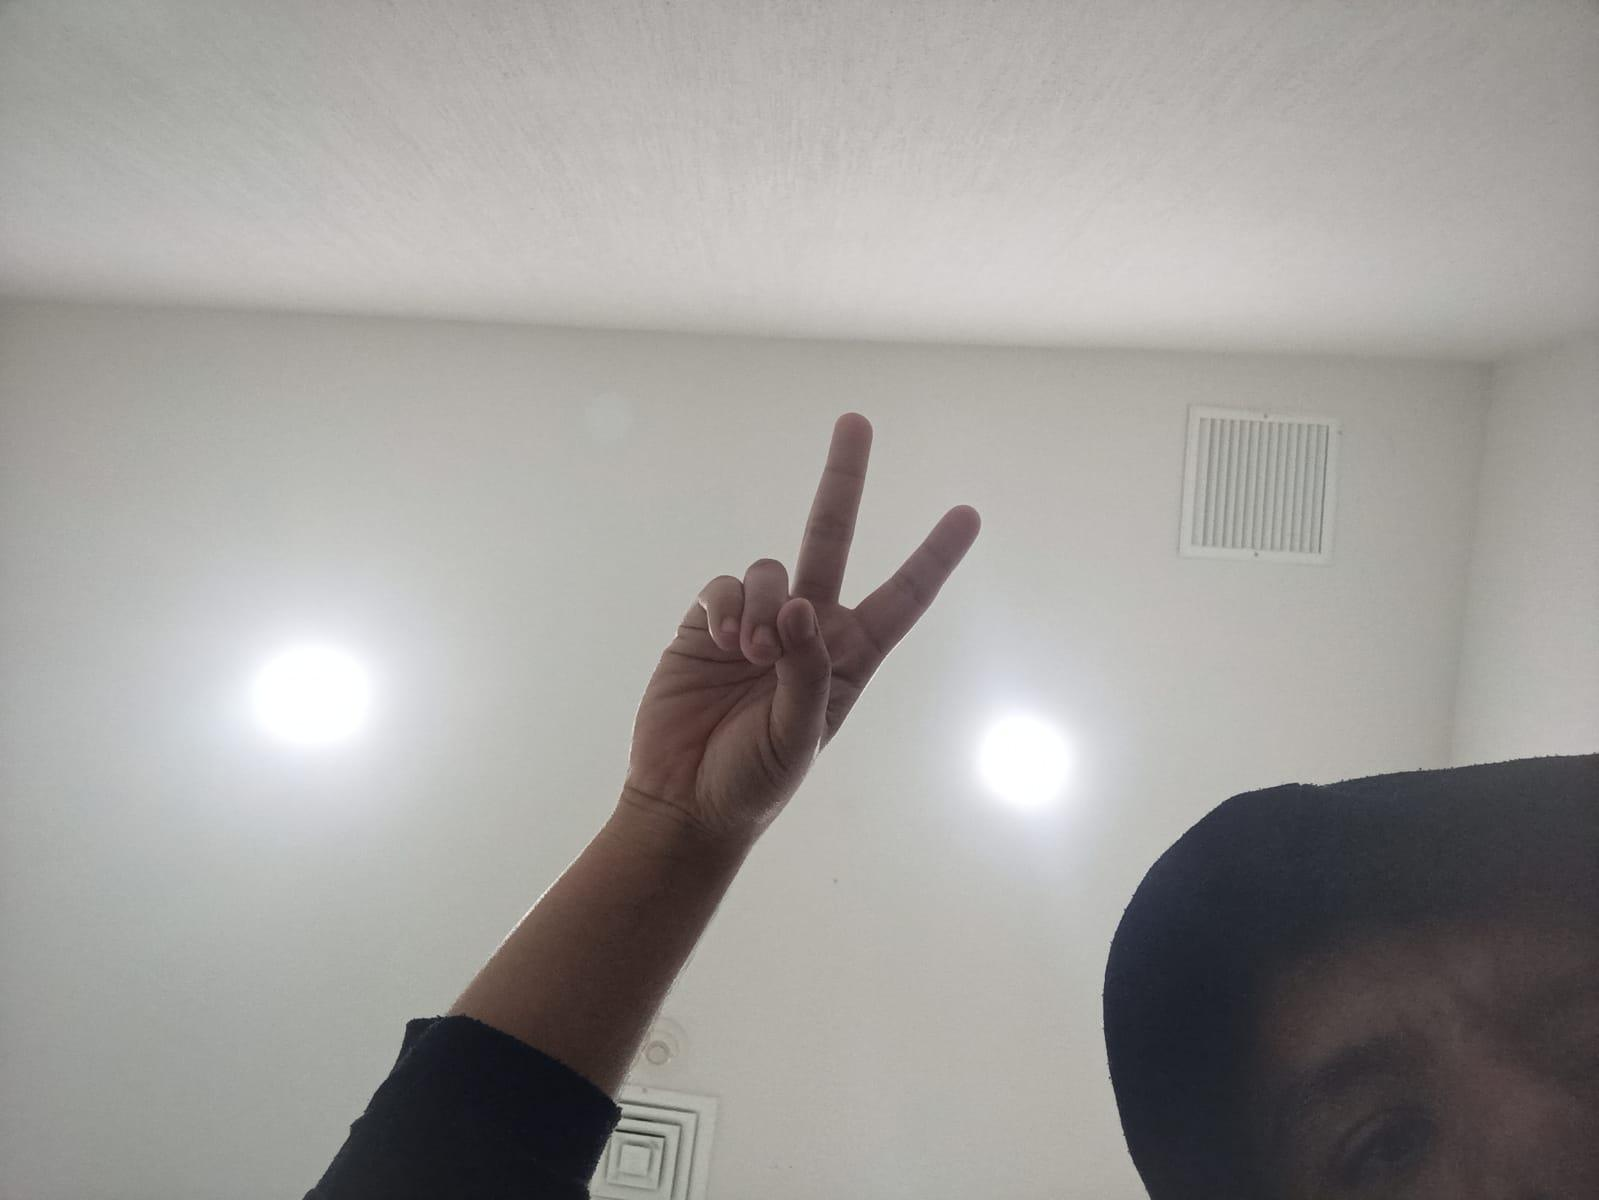Paper: (576, 389, 1003, 843)
